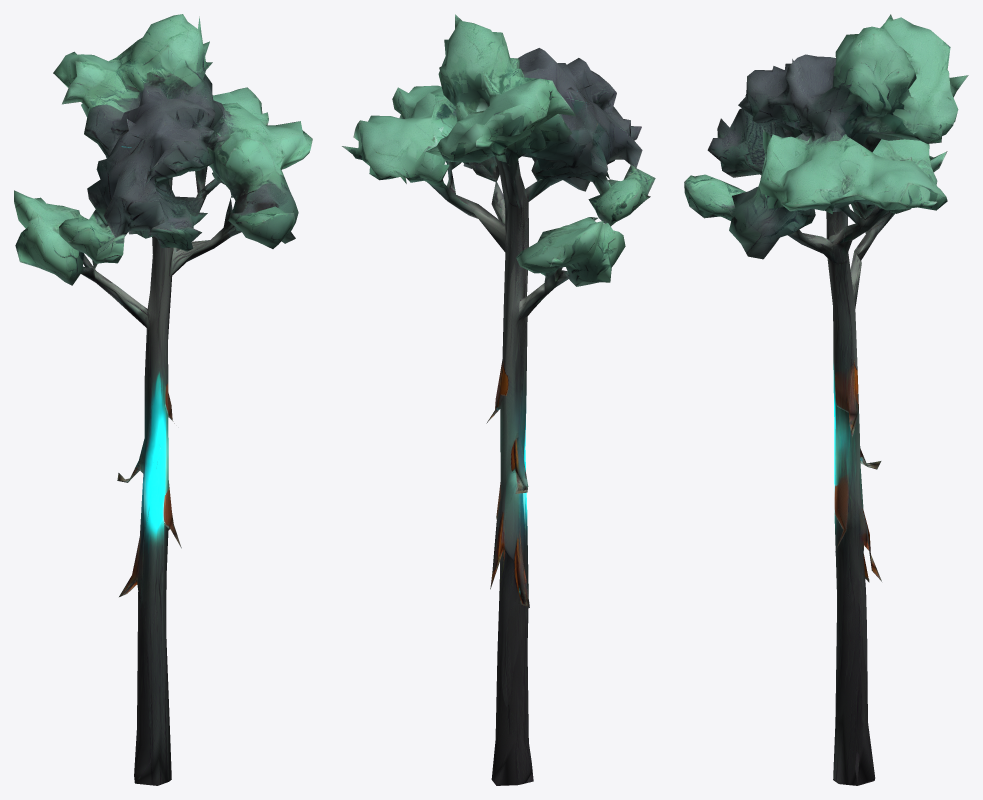
3 renders of one model, left to right at view 1: azimuth 30°, elevation 25°; view 2: azimuth 150°, elevation 25°; view 3: azimuth 270°, elevation 25°, orthographic. The views are drawn at different scales.
Visible parts, largest first — view 1: Mesh_0; view 2: Mesh_0; view 3: Mesh_0.
Part boxes in pixels (x1,y1,x2,y2): Mesh_0: (14,14,312,785); Mesh_0: (342,14,655,785); Mesh_0: (684,14,968,785).
Size of the model in its own units: 0.6596 by 1.86 by 0.6288.
Materials: 1 (1 with a texture image).
